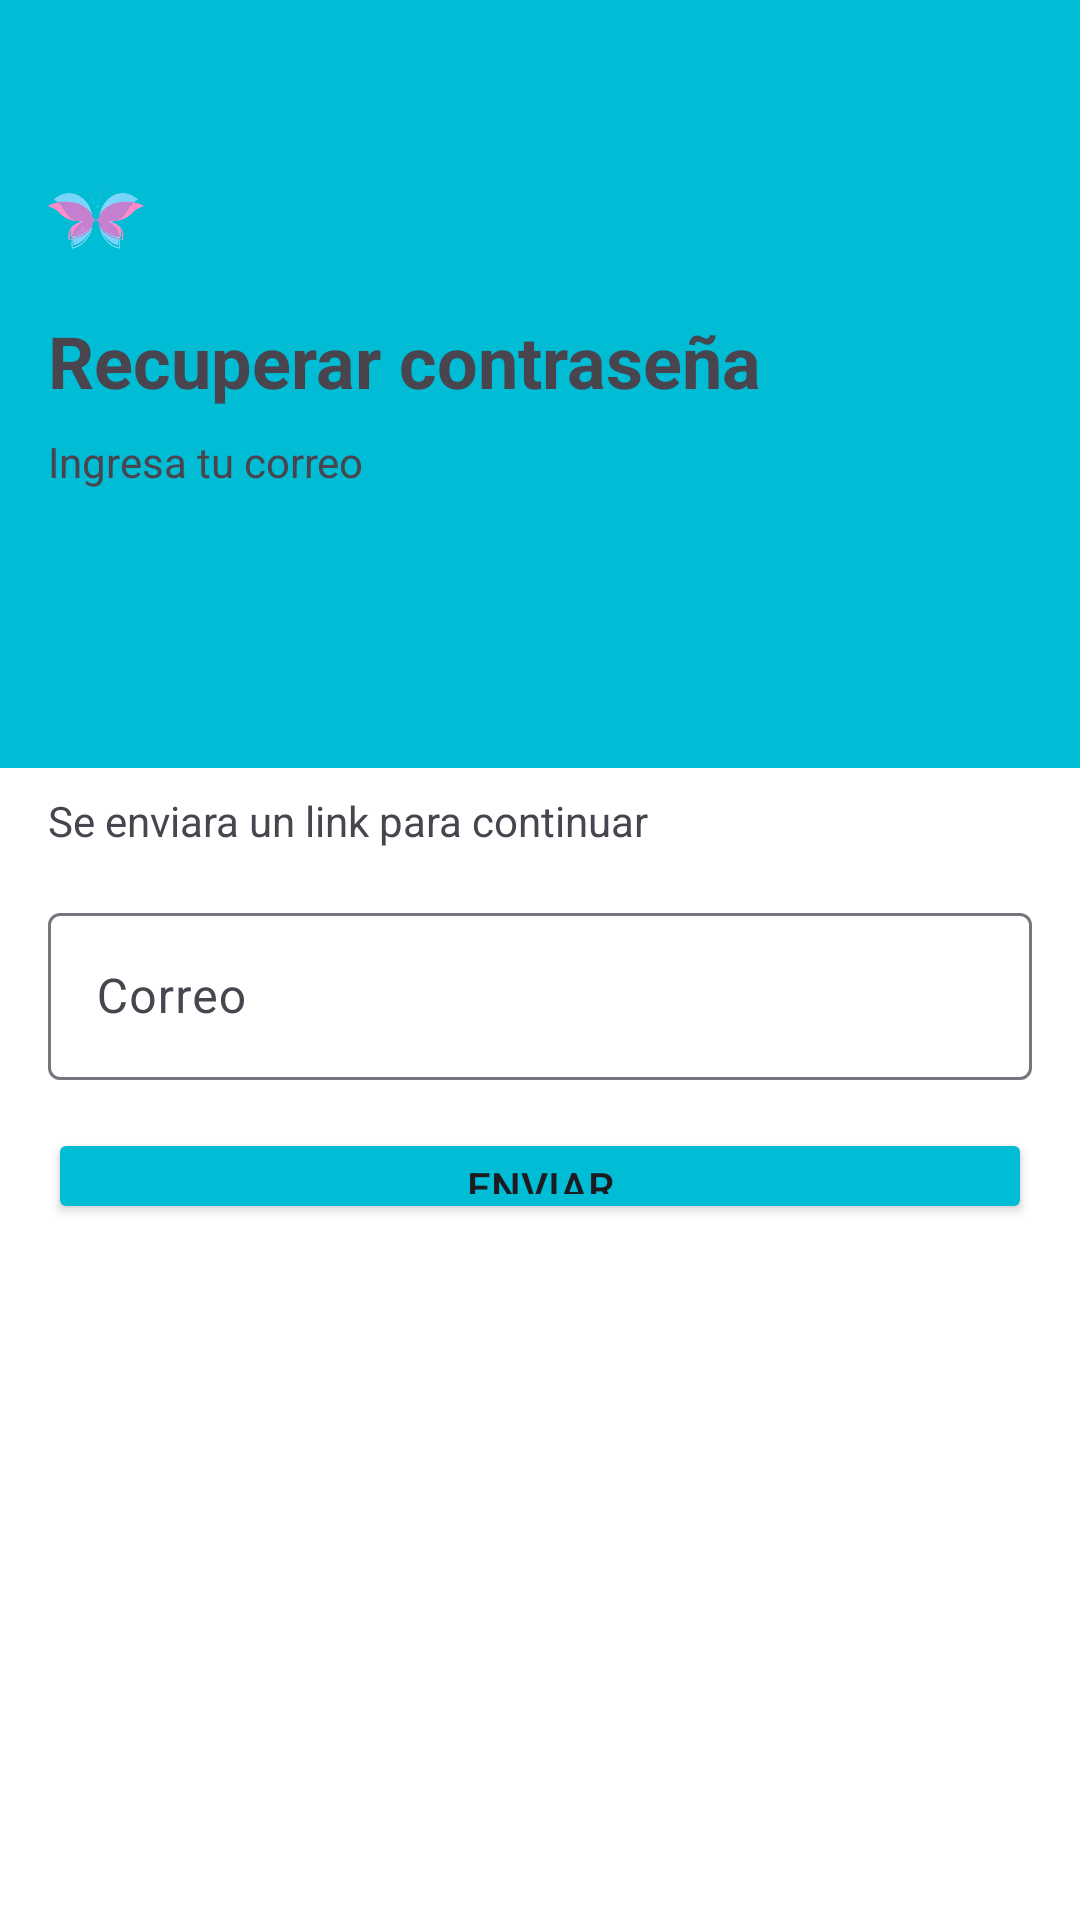

Locate icon controls on the screen. Image size 1080×1920, boxes as bbox=(x1, y1, x2, y2).
butterfly: bbox=(48, 185, 144, 249)
